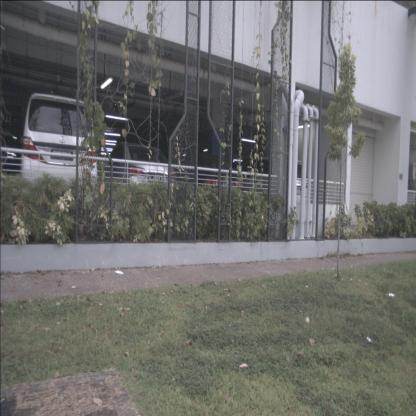vehicle-car: (20, 92, 98, 206), (100, 144, 177, 202), (229, 156, 309, 207), (171, 155, 242, 211)
